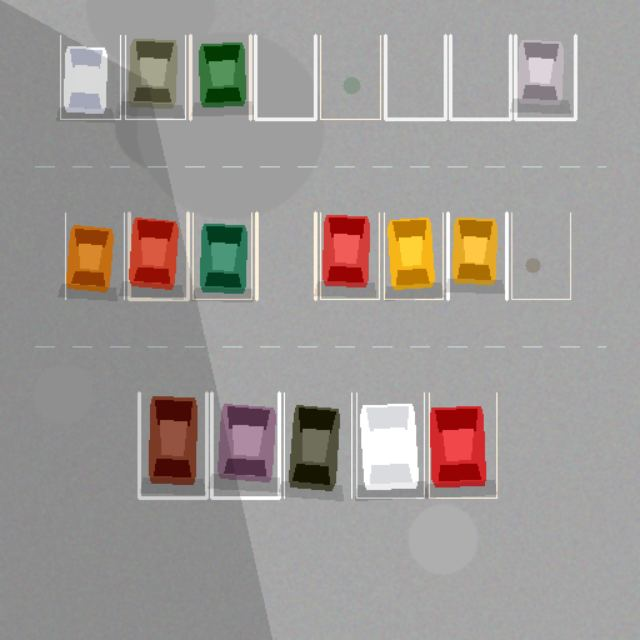space-empty: (256, 212, 315, 299), (511, 212, 570, 299), (255, 35, 315, 119), (320, 35, 380, 119), (385, 35, 445, 119), (450, 35, 510, 119)
space-occupied: (211, 392, 279, 497), (356, 392, 424, 497), (139, 392, 206, 497), (284, 392, 351, 497), (429, 392, 496, 497), (65, 212, 124, 299), (320, 212, 379, 299), (384, 212, 443, 299), (447, 212, 506, 299), (129, 212, 187, 299), (193, 212, 251, 299), (60, 35, 120, 119), (125, 35, 185, 119), (190, 35, 250, 119), (515, 35, 575, 119)
